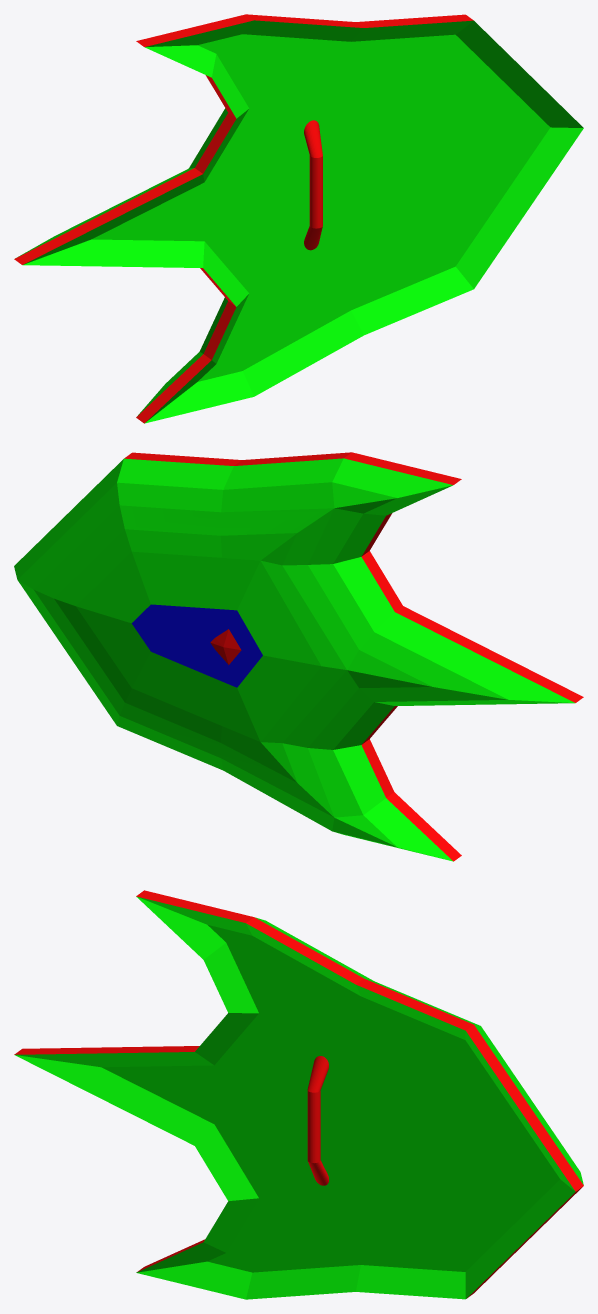
Rendered from Shield.fbx.
3 renders of one model, top to bottom at view 1: azimuth 30°, elevation 25°; view 2: azimuth 150°, elevation 25°; view 3: azimuth 330°, elevation 25°, orthographic.
Parts seen in each view (by area): view 1: Shield; view 2: Shield; view 3: Shield.
Boxes of the visible parts, bbox=[...] form: Shield: bbox=[14, 14, 583, 423]; Shield: bbox=[14, 452, 583, 861]; Shield: bbox=[14, 890, 583, 1299].
Bounding box in the file's own units: 185 × 119 × 22.39.
